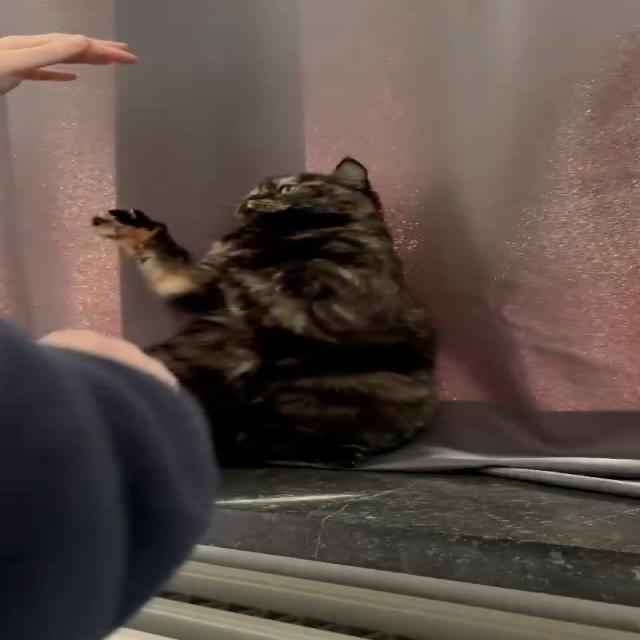authorized: (90, 156, 442, 468)
